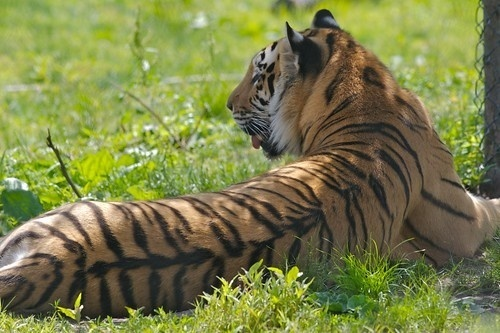tigre: (5, 10, 500, 317)
